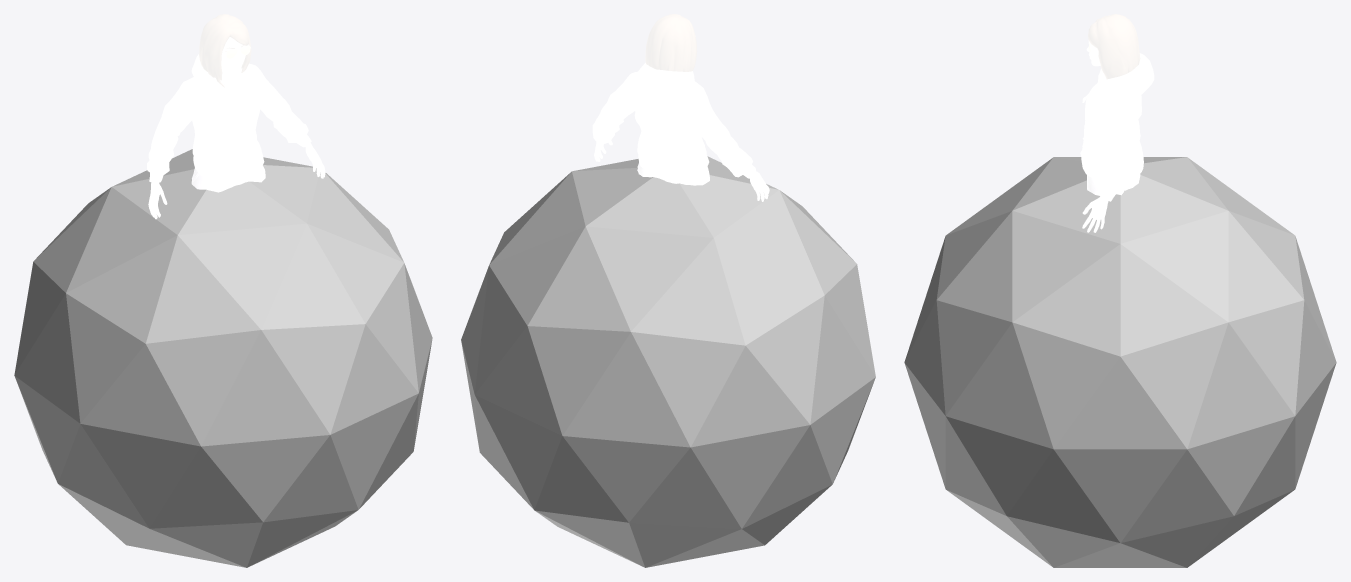
The model's file is animated.glb.
3 views of the same model, side by side, from view 1: azimuth 30°, elevation 25°; view 2: azimuth 150°, elevation 25°; view 3: azimuth 270°, elevation 25° (orthographic).
Visible parts, largest first — view 1: Icosphere, Wolf3D_Avatar; view 2: Icosphere, Wolf3D_Avatar; view 3: Icosphere, Wolf3D_Avatar.
Part boxes in pixels (left/top/right/bottom): Icosphere: left=14, top=149, right=432, bottom=567; Wolf3D_Avatar: left=147, top=14, right=325, bottom=219; Icosphere: left=461, top=156, right=875, bottom=567; Wolf3D_Avatar: left=592, top=14, right=769, bottom=201; Icosphere: left=904, top=157, right=1336, bottom=567; Wolf3D_Avatar: left=1080, top=14, right=1154, bottom=232.
Size of the model in its own units: 190 by 277 by 200.
2 materials, 2 textured.
